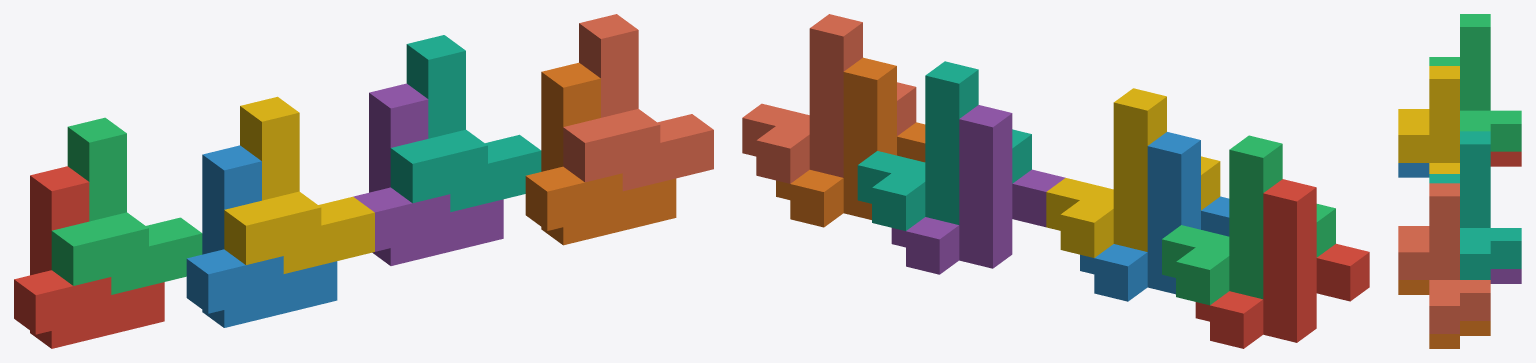
Rendered from tiling.obj.
3 views of the same model, side by side, from view 1: azimuth 30°, elevation 25°; view 2: azimuth 150°, elevation 25°; view 3: azimuth 270°, elevation 25° (orthographic). The views are drawn at different scales.
Visible parts, largest first — view 1: copy_1_domain_4, copy_1_domain_8, copy_1_domain_3, copy_1_domain_7, copy_1_domain_6, copy_1_domain_2, copy_1_domain_1, copy_1_domain_5; view 2: copy_1_domain_1, copy_1_domain_5, copy_1_domain_7, copy_1_domain_3, copy_1_domain_8, copy_1_domain_4, copy_1_domain_6, copy_1_domain_2; view 3: copy_1_domain_8, copy_1_domain_7, copy_1_domain_3, copy_1_domain_4, copy_1_domain_6, copy_1_domain_1, copy_1_domain_2, copy_1_domain_5.
Boxes of the visible parts, x1,y1,x2,y2 form: copy_1_domain_4: [224, 96, 374, 273]; copy_1_domain_8: [563, 14, 713, 191]; copy_1_domain_3: [51, 117, 202, 294]; copy_1_domain_7: [390, 35, 541, 212]; copy_1_domain_6: [525, 62, 676, 245]; copy_1_domain_2: [186, 145, 337, 327]; copy_1_domain_1: [14, 166, 164, 348]; copy_1_domain_5: [353, 83, 503, 265]; copy_1_domain_1: [1195, 179, 1369, 348]; copy_1_domain_5: [891, 105, 1065, 274]; copy_1_domain_7: [857, 61, 1031, 230]; copy_1_domain_3: [1162, 135, 1335, 305]; copy_1_domain_8: [742, 14, 916, 183]; copy_1_domain_4: [1046, 88, 1220, 257]; copy_1_domain_6: [776, 57, 925, 227]; copy_1_domain_2: [1080, 132, 1229, 301]; copy_1_domain_8: [1398, 183, 1490, 333]; copy_1_domain_7: [1429, 131, 1521, 279]; copy_1_domain_3: [1429, 14, 1521, 151]; copy_1_domain_4: [1398, 66, 1459, 173]; copy_1_domain_6: [1398, 280, 1490, 348]; copy_1_domain_1: [1490, 151, 1521, 166]; copy_1_domain_2: [1398, 163, 1429, 177]; copy_1_domain_5: [1490, 269, 1521, 283].
Bounding box in the file's own units: 18 × 5 × 4.
